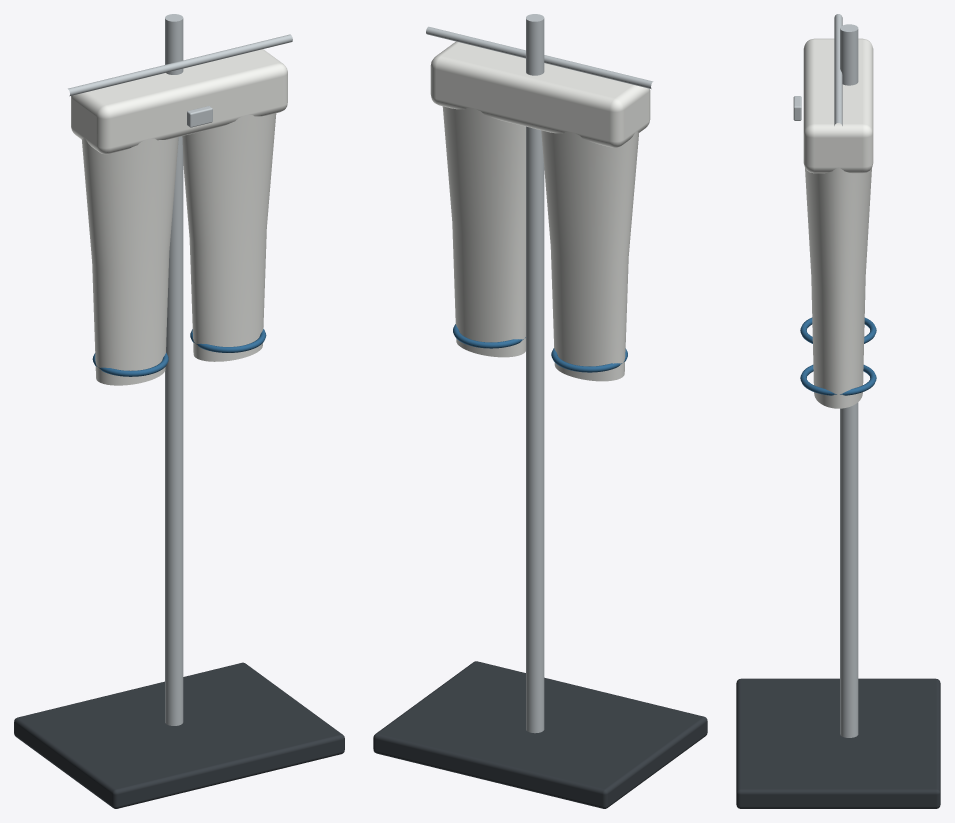
File: fencing-club-and-tournament-piste-breeches-hanger-79fbe8f3__31230.glb
3 views of the same model, side by side, from view 1: azimuth 30°, elevation 25°; view 2: azimuth 150°, elevation 25°; view 3: azimuth 270°, elevation 25° (orthographic).
Visible parts, largest first — view 1: breeches-hanger; view 2: breeches-hanger; view 3: breeches-hanger.
Boxes of the visible parts, x1,y1,x2,y2 form: breeches-hanger: (14,14,344,808); breeches-hanger: (373,14,707,808); breeches-hanger: (736,14,940,808).
Size of the model in its own units: 0.5 by 1.49 by 0.38.
